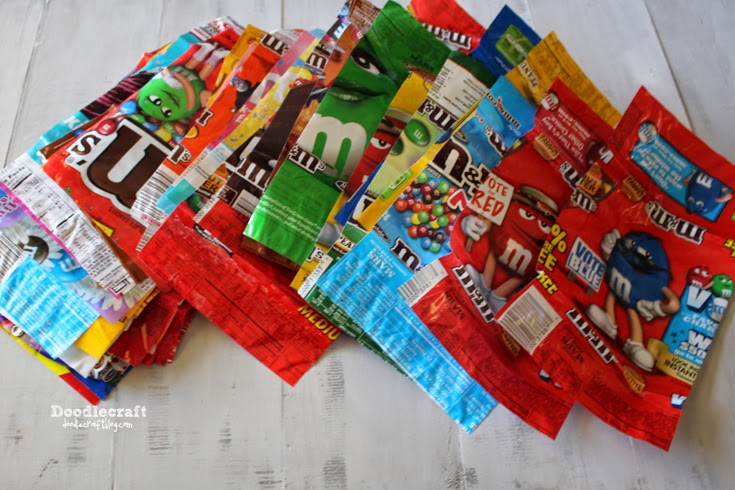Nonrec_Plastic: (4, 8, 734, 460), (324, 1, 576, 433), (489, 60, 716, 430)
